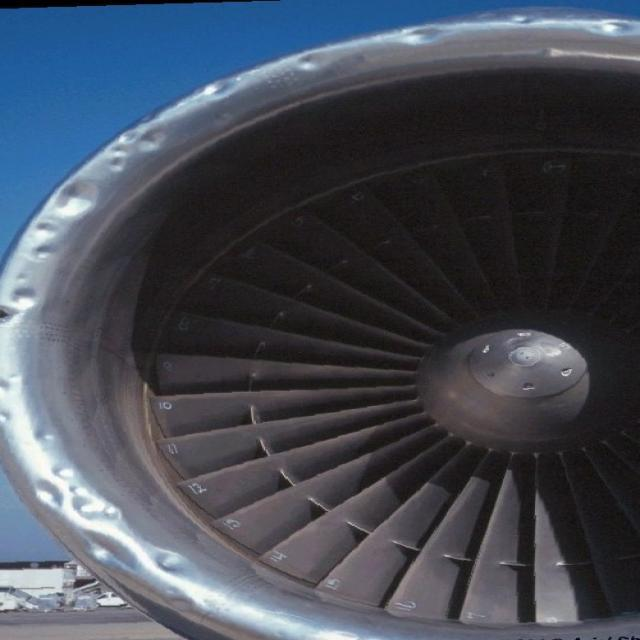dent: (25, 467, 217, 622), (50, 174, 104, 217)
